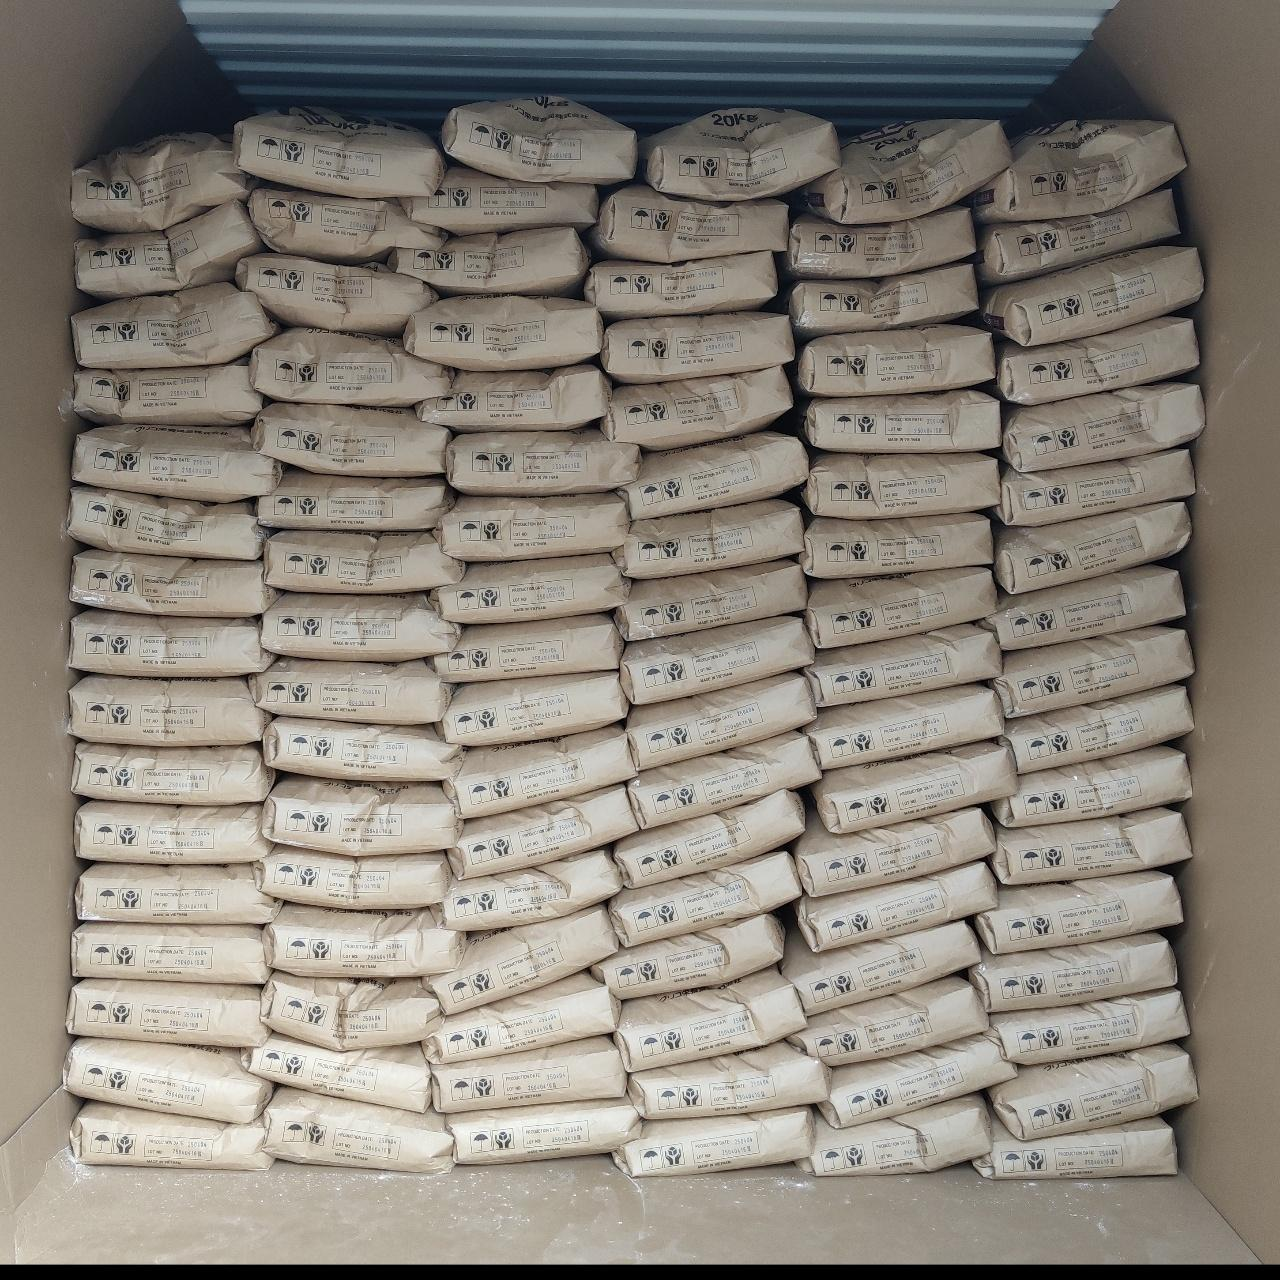sack: (972, 120, 1182, 222), (798, 120, 1006, 222), (982, 246, 1201, 342), (428, 906, 614, 1012), (617, 968, 804, 1070), (976, 190, 1176, 282), (234, 108, 442, 196), (782, 922, 978, 1014), (992, 626, 1190, 716), (992, 1046, 1194, 1133), (822, 1034, 1014, 1126), (994, 316, 1196, 404), (76, 202, 263, 297), (813, 742, 1014, 830), (796, 862, 996, 949), (617, 792, 804, 886), (628, 731, 818, 824), (424, 972, 618, 1062), (640, 110, 838, 198), (628, 674, 813, 768), (610, 852, 799, 942), (794, 808, 990, 894), (1002, 384, 1201, 470), (74, 284, 278, 366), (994, 504, 1189, 590), (450, 787, 636, 876), (445, 726, 634, 813), (74, 134, 248, 229), (790, 976, 983, 1062), (1002, 686, 1190, 772), (66, 1039, 270, 1118), (622, 617, 812, 702), (992, 745, 1190, 826), (444, 98, 636, 182), (983, 566, 1182, 646), (976, 872, 1180, 949), (622, 433, 806, 518), (806, 624, 998, 706), (806, 685, 1000, 765), (594, 914, 782, 998), (236, 254, 436, 332), (264, 776, 459, 855), (592, 184, 788, 263), (74, 425, 278, 501), (264, 1088, 450, 1170), (629, 1042, 828, 1118), (971, 934, 1175, 1008), (804, 1094, 988, 1175), (250, 184, 444, 260), (990, 808, 1190, 881), (806, 568, 996, 646), (617, 560, 806, 638), (996, 450, 1194, 524), (252, 331, 448, 404), (604, 368, 790, 445), (436, 850, 622, 926), (241, 1034, 428, 1110), (68, 486, 266, 558), (988, 990, 1186, 1062), (266, 904, 462, 974), (433, 1039, 624, 1110), (617, 501, 799, 574), (406, 297, 600, 366), (252, 404, 448, 472), (72, 610, 270, 676), (438, 672, 626, 742), (787, 264, 974, 334), (68, 980, 268, 1046), (72, 550, 275, 614), (433, 556, 628, 622), (617, 1108, 812, 1175), (798, 324, 990, 392), (72, 1102, 270, 1167), (70, 676, 268, 742), (390, 229, 588, 294), (602, 312, 792, 380), (264, 972, 438, 1046), (263, 594, 458, 660), (787, 207, 974, 275), (404, 164, 598, 230), (448, 428, 638, 493), (420, 365, 610, 430), (436, 493, 628, 558), (74, 742, 272, 804), (804, 452, 998, 516), (448, 1098, 638, 1162), (264, 719, 459, 779), (798, 390, 998, 450), (433, 614, 620, 678), (250, 660, 450, 719), (79, 864, 278, 922), (258, 847, 448, 908), (76, 802, 270, 862), (72, 924, 268, 982), (974, 1118, 1175, 1176), (588, 254, 774, 316), (72, 362, 263, 422), (264, 532, 462, 590), (802, 515, 990, 574), (258, 470, 452, 526)
